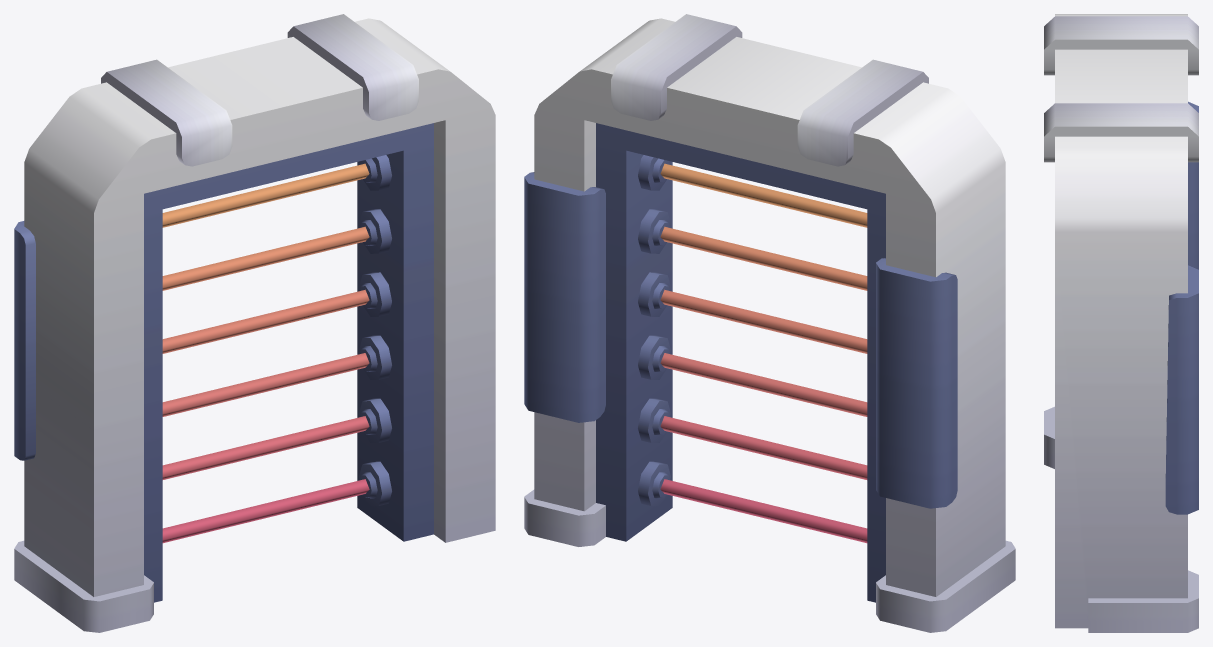
Rendered from gate-lasers.glb.
3 renders of one model, left to right at view 1: azimuth 30°, elevation 25°; view 2: azimuth 150°, elevation 25°; view 3: azimuth 270°, elevation 25°, orthographic. The views are drawn at different scales.
Parts seen in each view (by area): view 1: gate-lasers, lasers, Group (×6); view 2: gate-lasers, lasers, Group (×6); view 3: gate-lasers.
Boxes of the visible parts, <box> form: gate-lasers: <box>14,14,495,632</box>; lasers: <box>162,163,369,543</box>; Group (×6): <box>359,155,391,506</box>; gate-lasers: <box>524,14,1015,632</box>; lasers: <box>660,163,867,543</box>; Group (×6): <box>638,155,670,506</box>; gate-lasers: <box>1044,14,1198,632</box>.
Bounding box in the file's own units: 4.2 × 4.62 × 1.4.
1 material, 1 textured.
